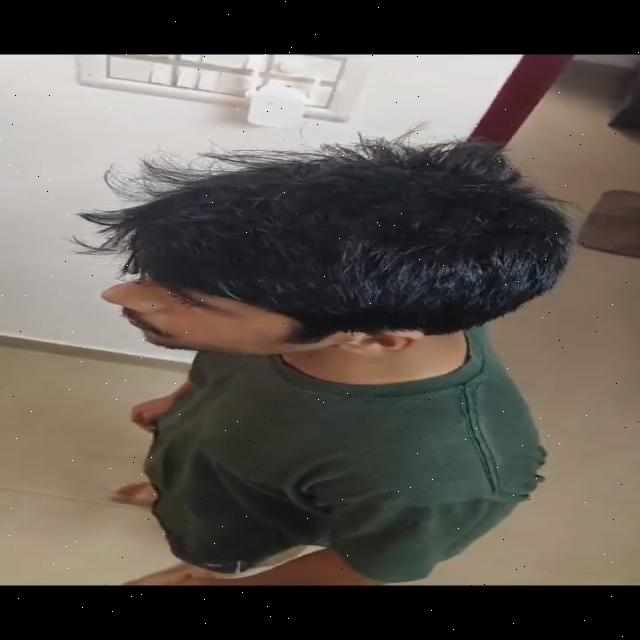humans: (92, 129, 587, 588)
